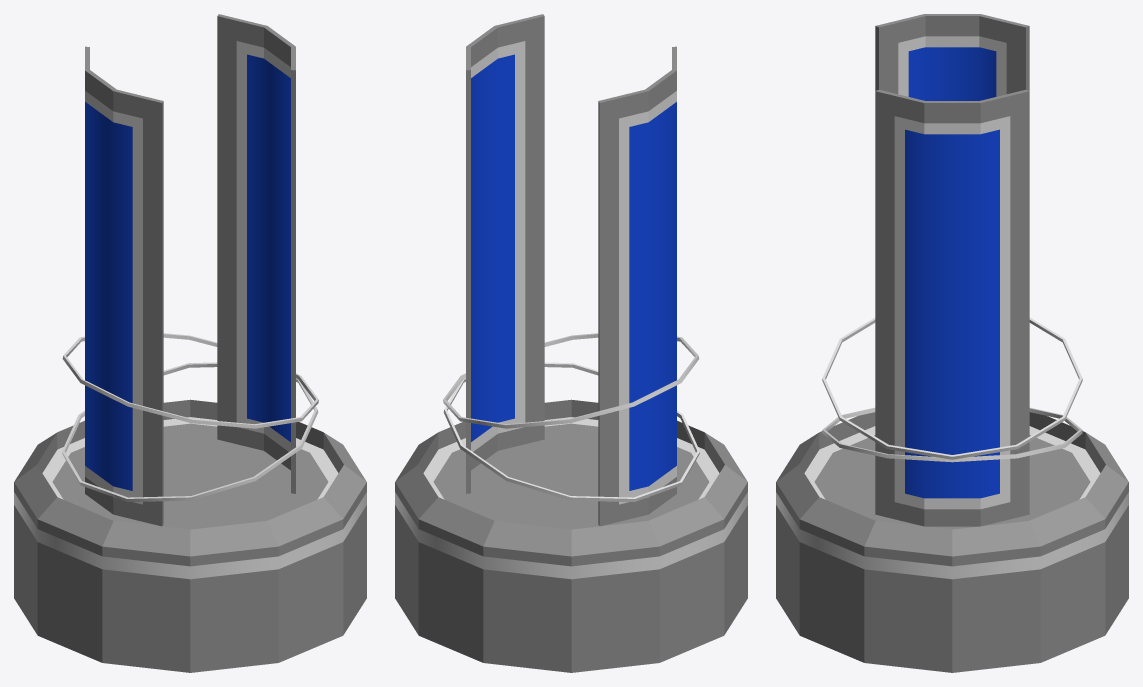
The model's file is guide_base.fbx.
The picture shows the model from 3 angles, left to right: view 1: azimuth 30°, elevation 25°; view 2: azimuth 150°, elevation 25°; view 3: azimuth 270°, elevation 25°; orthographic projection.
Parts seen in each view (by area): view 1: Cylinder001, Tube004, Tube002; view 2: Cylinder001, Tube004, Tube002; view 3: Tube004, Cylinder001, Tube002.
Boxes of the visible parts, x1,y1,x2,y2 form: Cylinder001: (14, 399, 366, 672); Tube004: (85, 14, 295, 526); Tube002: (62, 333, 318, 501); Cylinder001: (395, 399, 747, 672); Tube004: (466, 14, 676, 526); Tube002: (443, 333, 699, 501); Tube004: (875, 14, 1029, 526); Cylinder001: (776, 412, 1128, 672); Tube002: (822, 317, 1082, 462).
Size of the model in its own units: 59.06 by 99.71 by 59.06.
